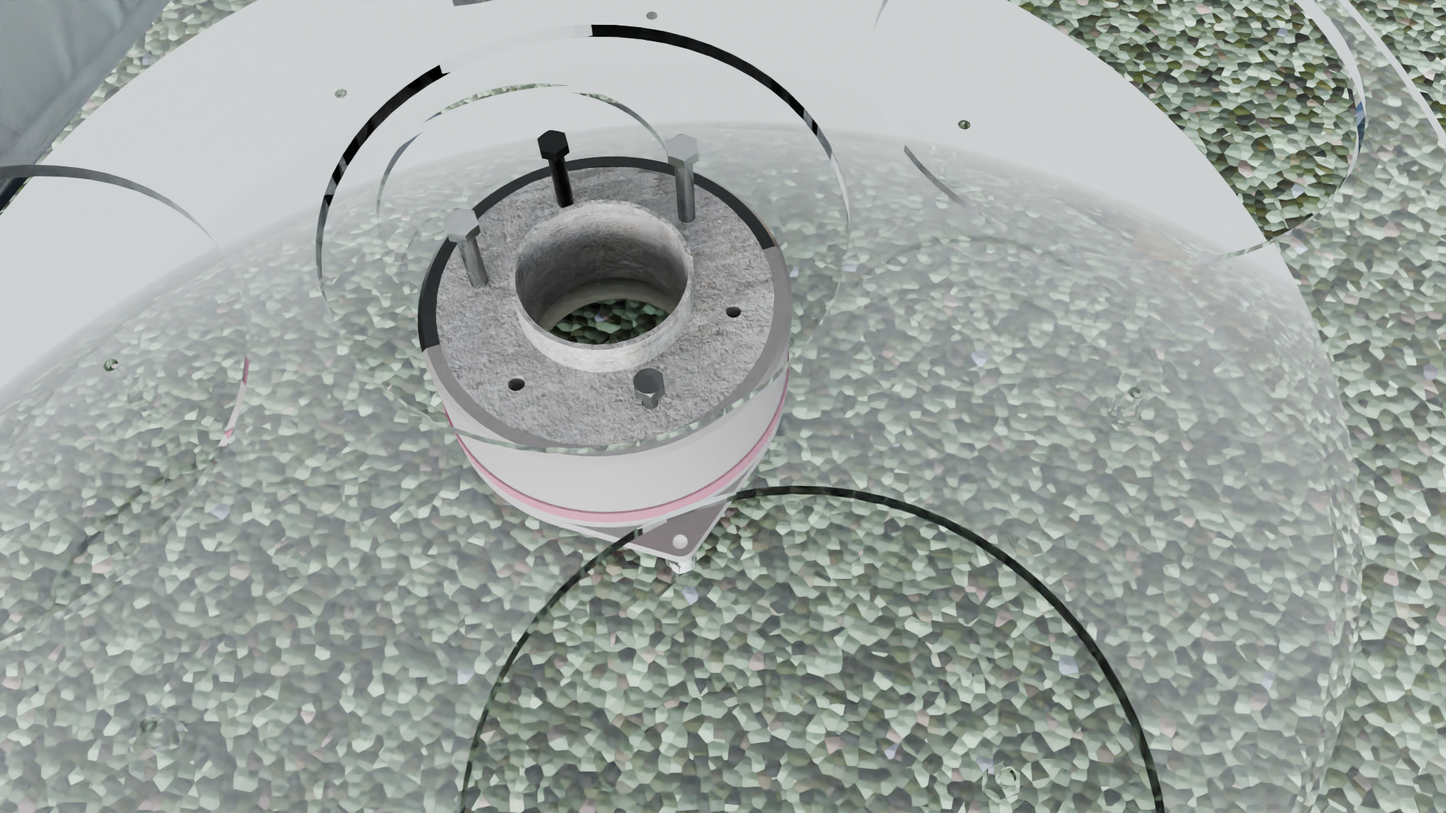bolt: (443, 209, 478, 236), (633, 368, 664, 397), (666, 134, 698, 161), (537, 129, 568, 154)
